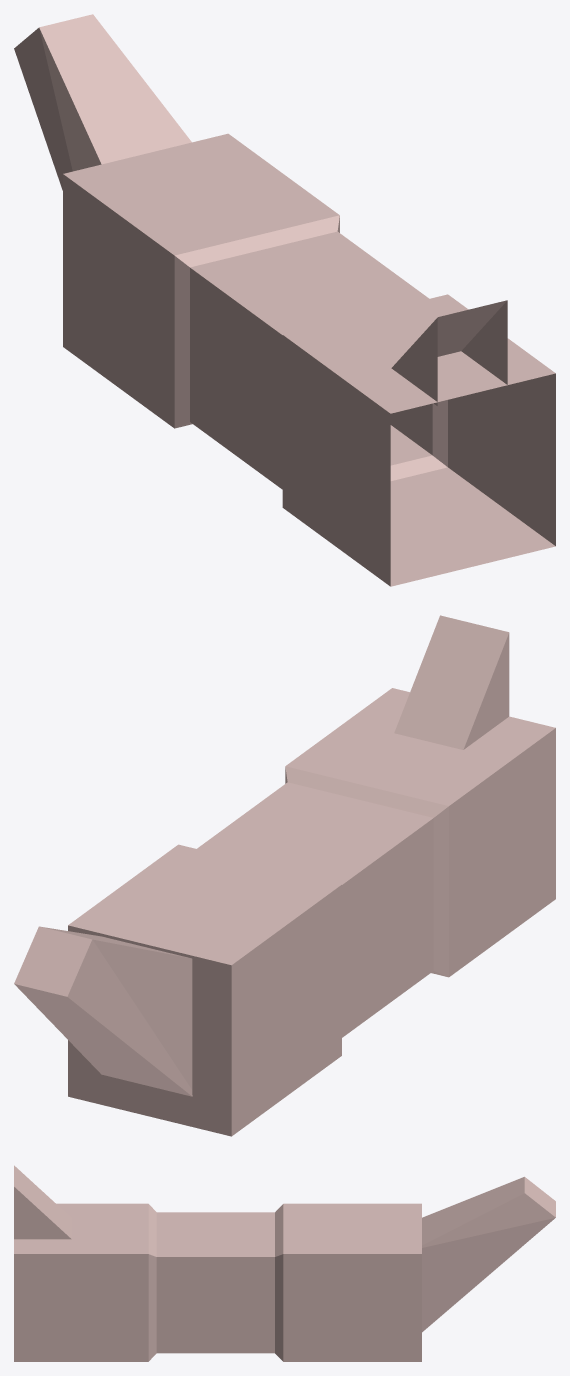
The picture shows the model from 3 angles, top to bottom: view 1: azimuth 30°, elevation 25°; view 2: azimuth 150°, elevation 25°; view 3: azimuth 270°, elevation 25°; orthographic projection. The views are drawn at different scales.
Visible parts, largest first — view 1: Object25; view 2: Object25; view 3: Object25.
Boxes of the visible parts, box(x1,y1,x2,y2) form: Object25: box(14, 14, 555, 586); Object25: box(14, 615, 555, 1136); Object25: box(14, 1165, 555, 1361).
Size of the model in its own units: 13699 by 20433 by 62438.
